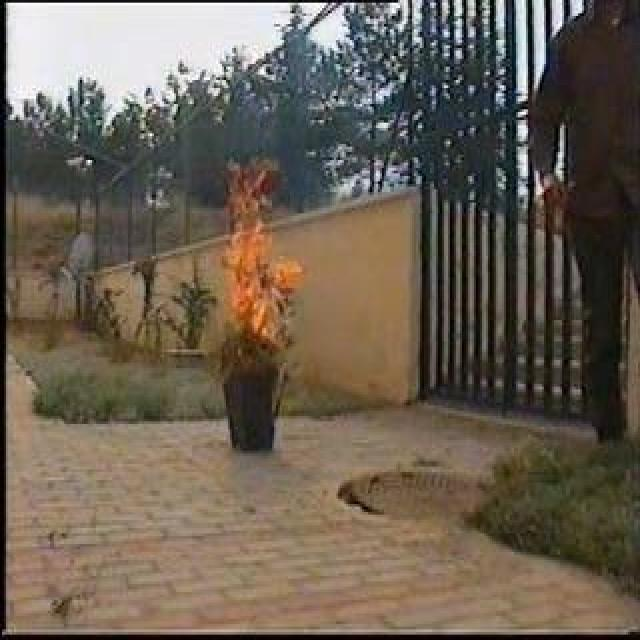fire: (226, 163, 300, 344)
